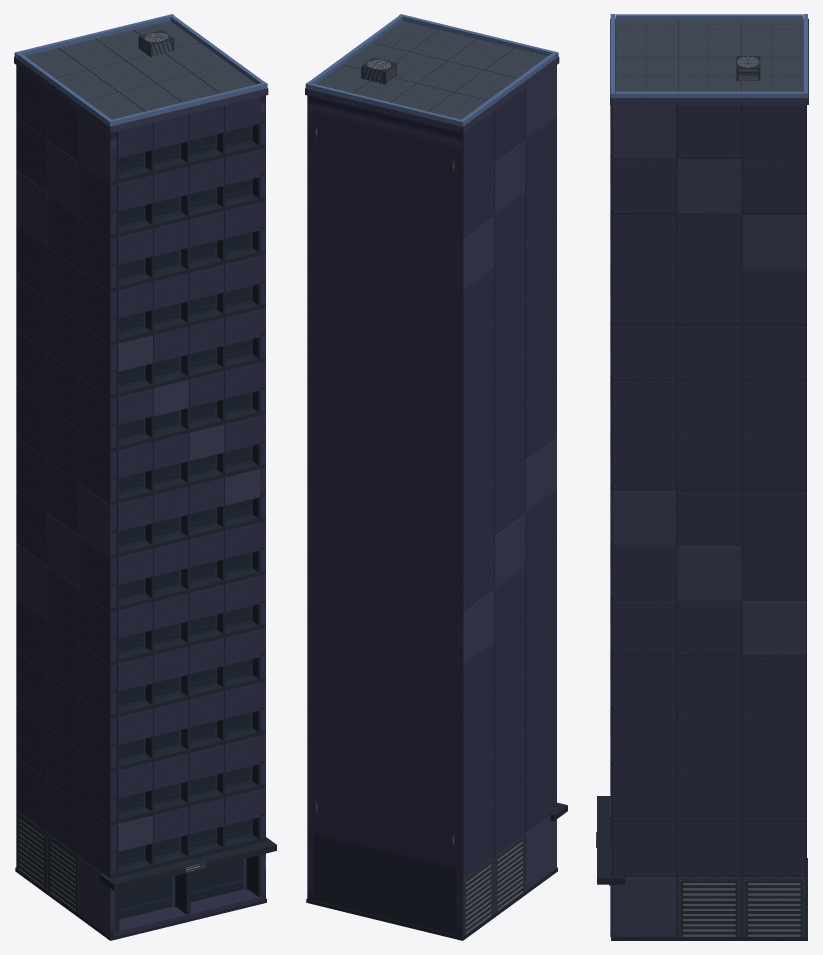
File: spire.glb
3 views of the same model, side by side, from view 1: azimuth 30°, elevation 25°; view 2: azimuth 150°, elevation 25°; view 3: azimuth 270°, elevation 25° (orthographic). The views are drawn at different scales.
Visible parts, largest first — view 1: Architecture, Store_01, Store_02; view 2: Architecture; view 3: Architecture.
Part boxes in pixels (<box>): Architecture: <box>14,14,276,940</box>; Store_01: <box>119,875,175,920</box>; Store_02: <box>190,858,246,902</box>; Architecture: <box>305,14,567,940</box>; Architecture: <box>596,14,808,940</box>.
Size of the model in its own units: 8 by 38.79 by 8.73.
1 material, 1 textured.
